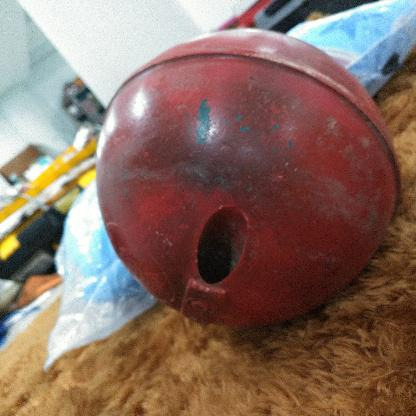red_buoy: (98, 28, 398, 332)
